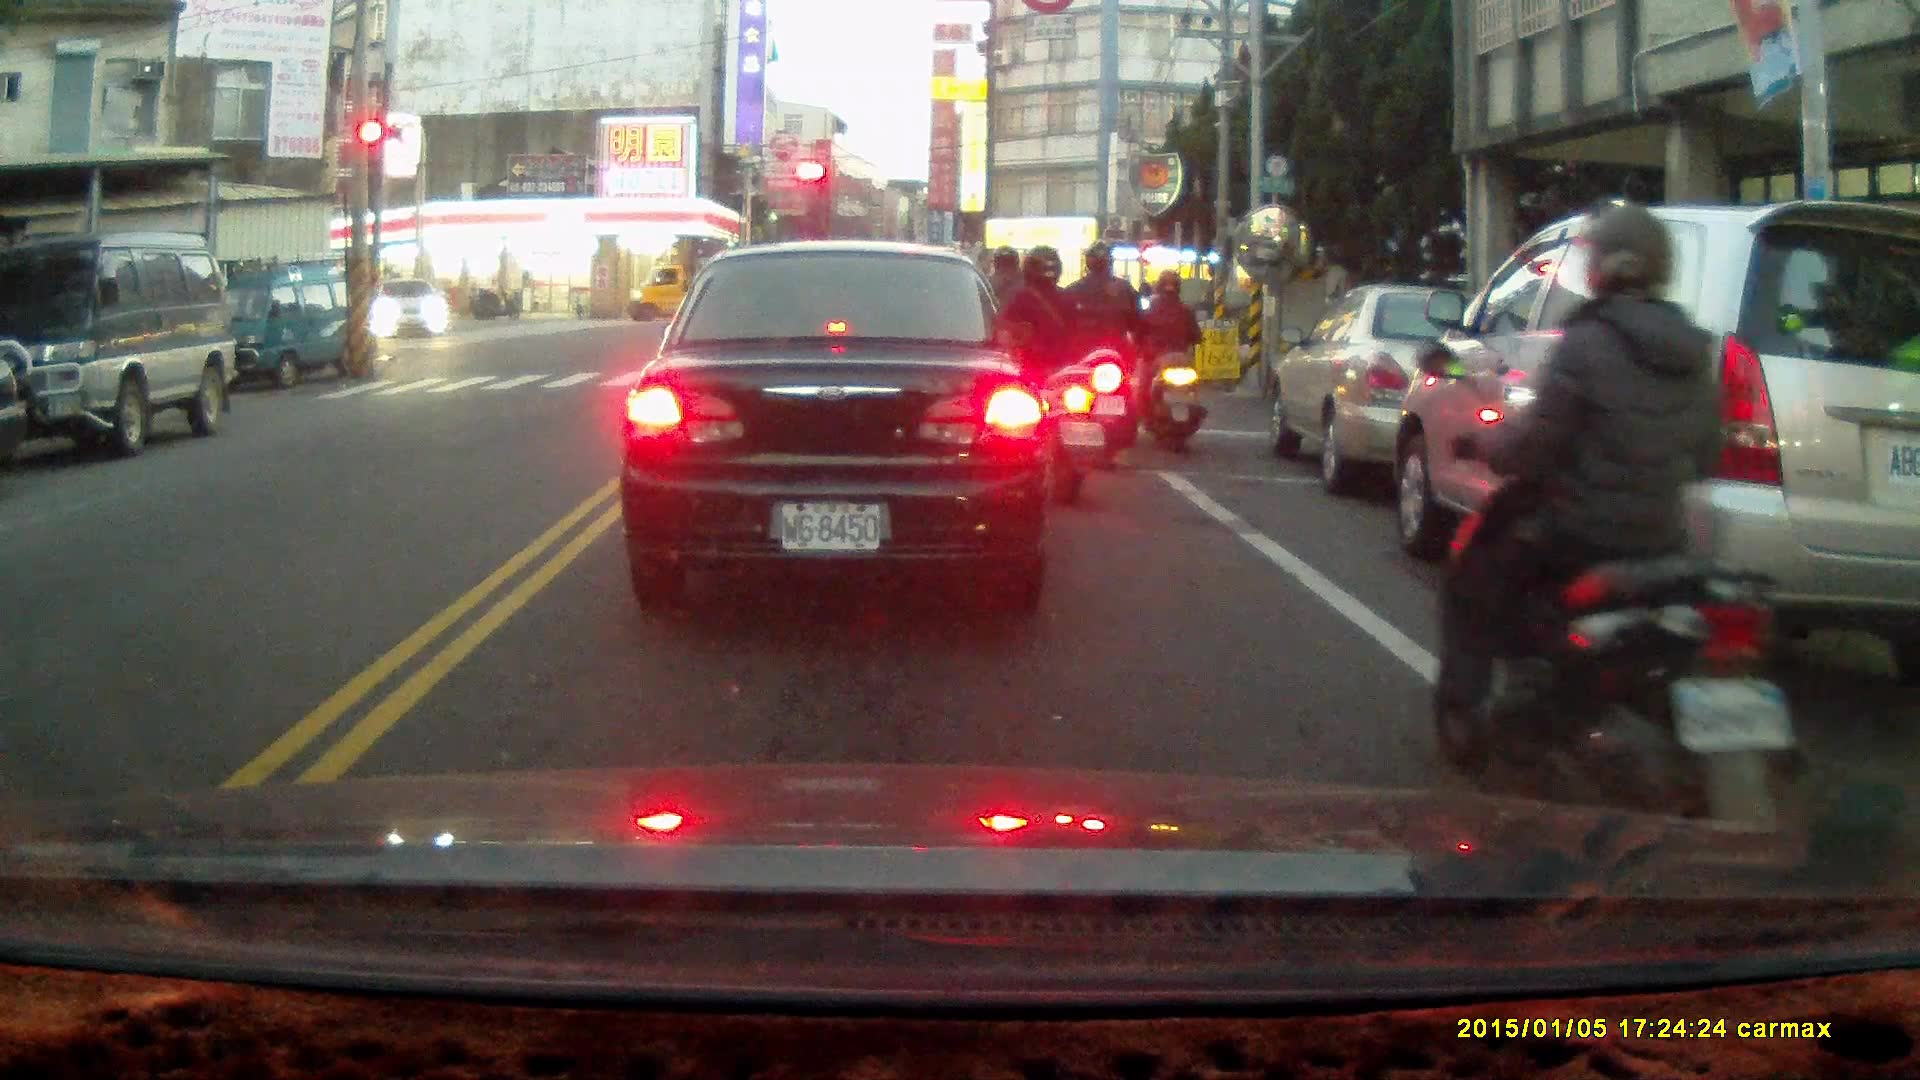rider: (1419, 196, 1808, 872), (976, 243, 1108, 512), (1048, 243, 1141, 469), (961, 242, 1053, 442), (1134, 269, 1204, 450), (466, 283, 521, 322)
vehicle: (1378, 195, 1920, 685), (617, 243, 1061, 606), (1, 234, 239, 458), (194, 255, 381, 394), (620, 261, 765, 323), (372, 277, 451, 343)
